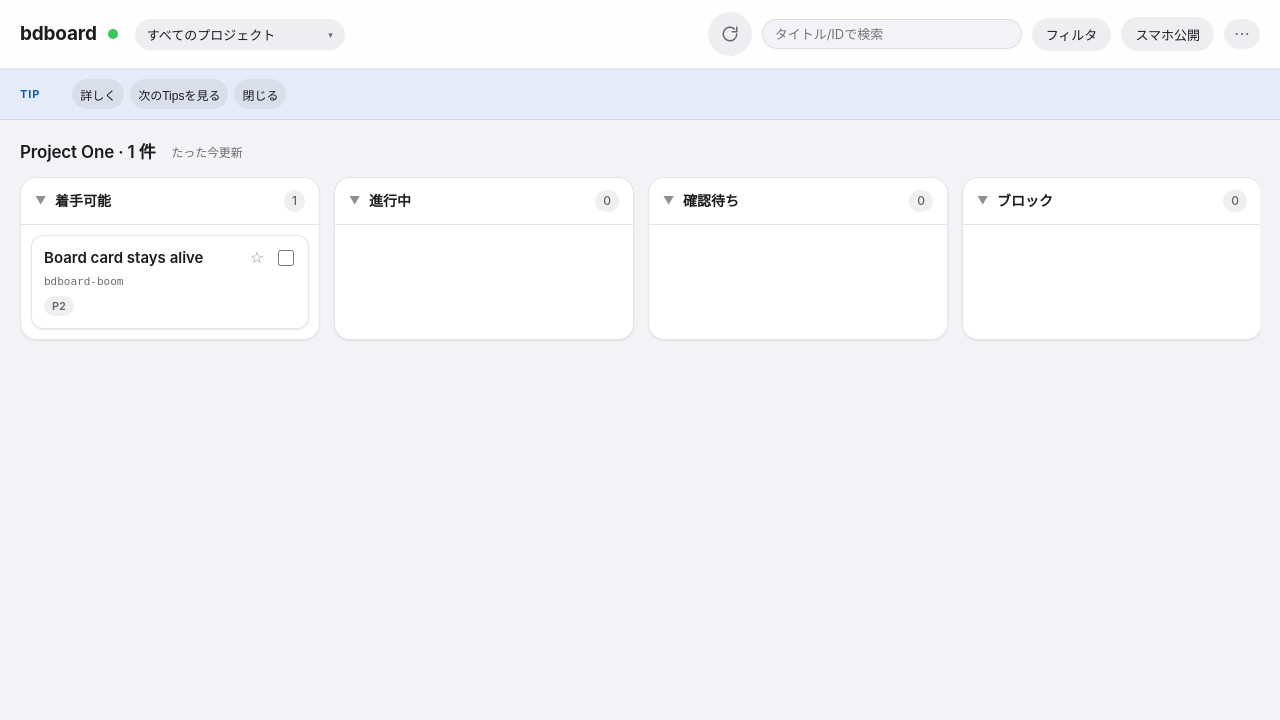
App error boundaries (bdboard-yfq) › closes the crashed panel from the fallback
Click the option titled "Board card stays alive" at (124, 257), box [31,235,309,329]
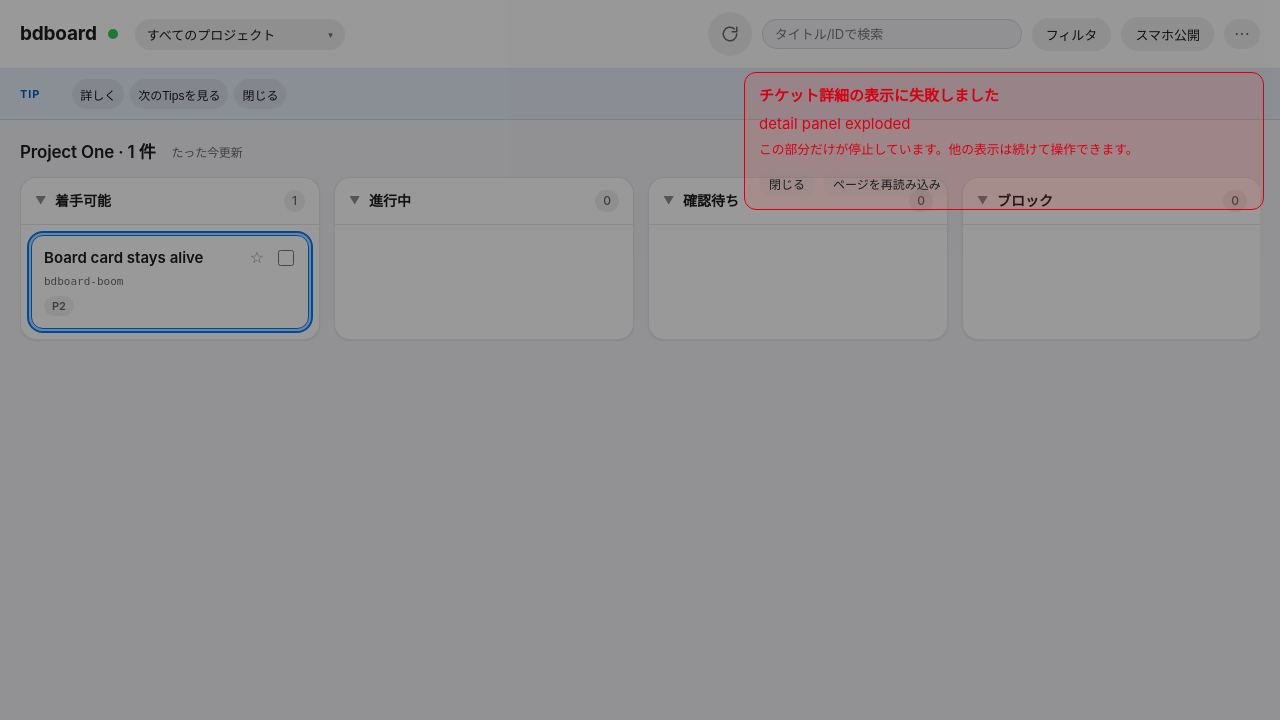
Check: the message is shown, box [744,72,1264,210]
Click the button "閉じる" at (787, 183), box [759,170,815,197]
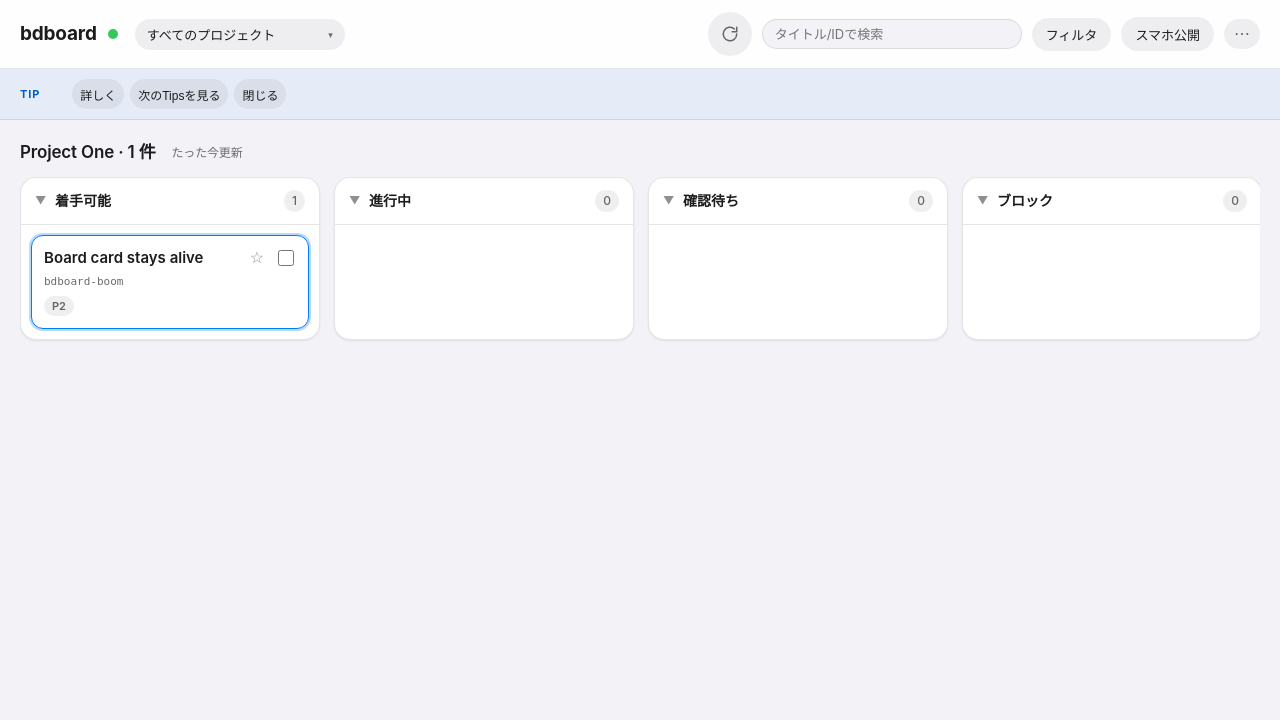
Check: the option titled "Board card stays alive" is shown, box [31,235,309,329]
Check: the message is gone
